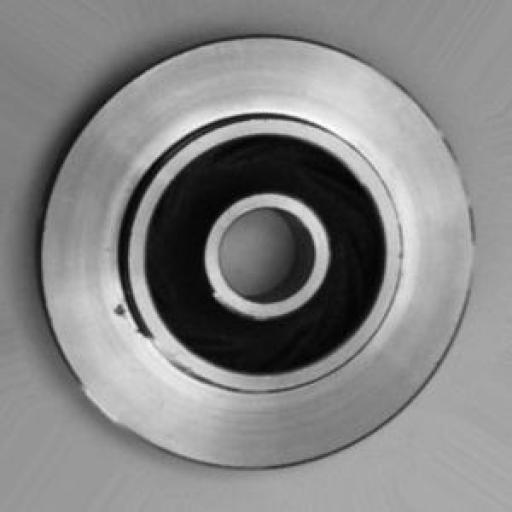defect: (95, 281, 191, 388)
